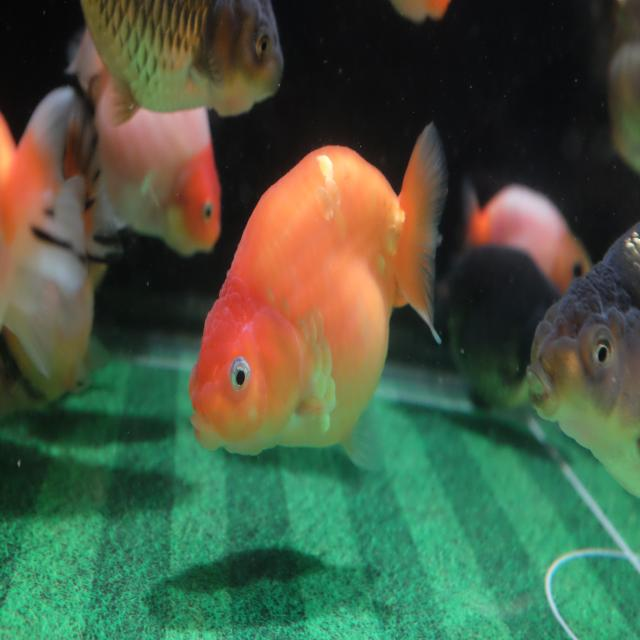Tilapia: (182, 114, 455, 468), (68, 23, 223, 258), (520, 220, 640, 502), (78, 0, 284, 113)
